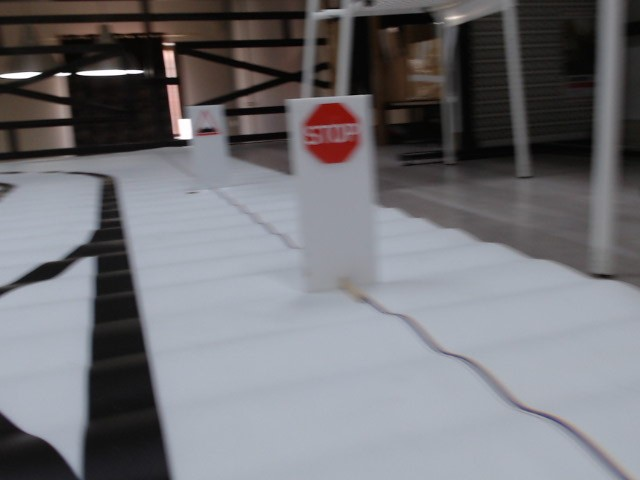Nerov: (192, 109, 223, 137)
Stop: (304, 104, 362, 164)
